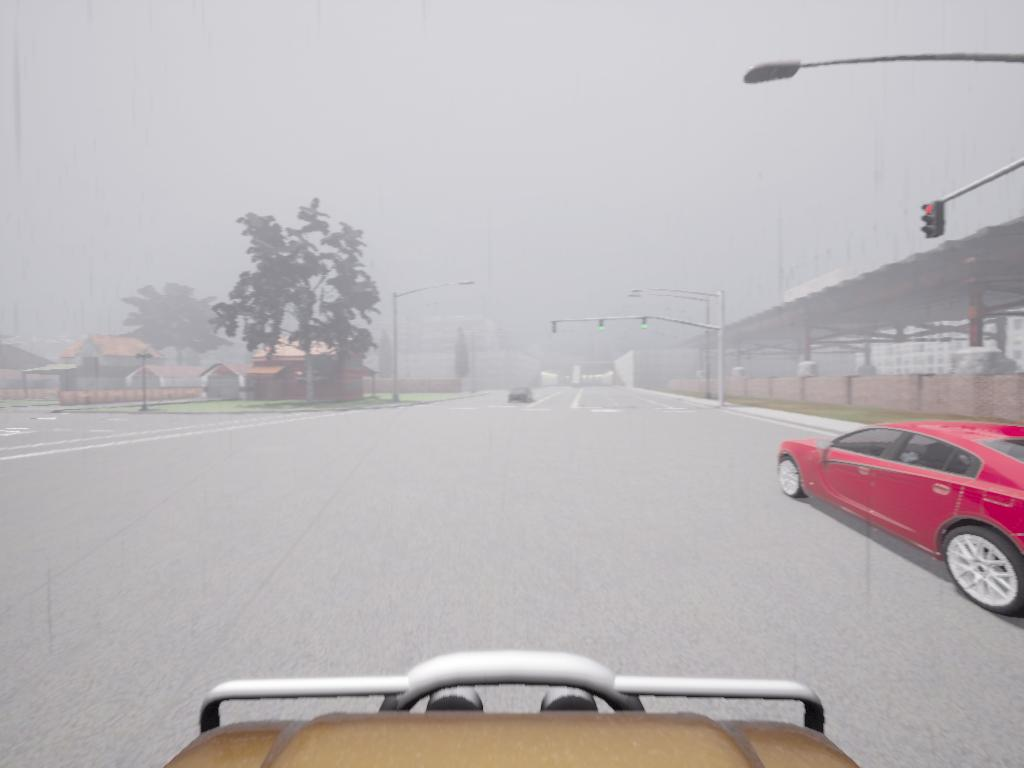traffic_light: (921, 202, 945, 239), (600, 321, 607, 332), (643, 318, 648, 330), (553, 323, 558, 334)
